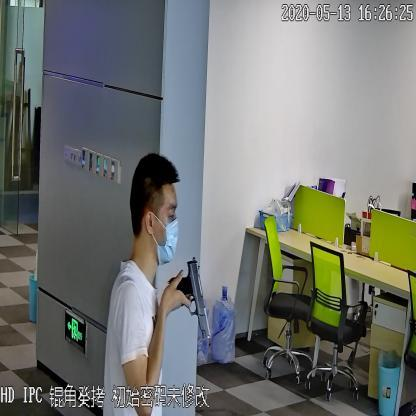gun: (166, 243, 221, 344)
